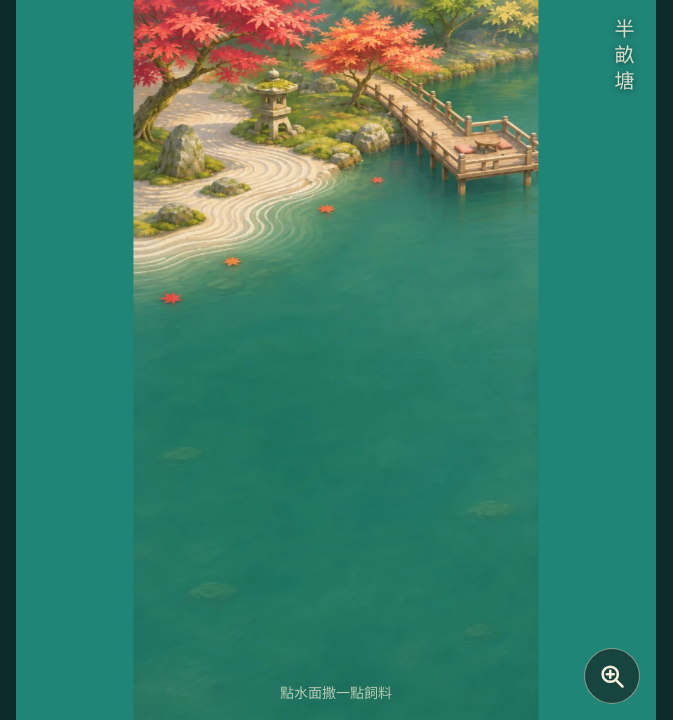
Pond › shows the title and a first-visit hint that goes away after feeding
expect the heading "半畝塘" is shown: met, box [612,18,634,96]
expect the text "點水面撒一點飼料" is shown: met, box [280,686,392,701]
Step 1. Press the mouse on the drawing named "池面，點一下撒飼料" → (336, 508), box [170,310,502,706]
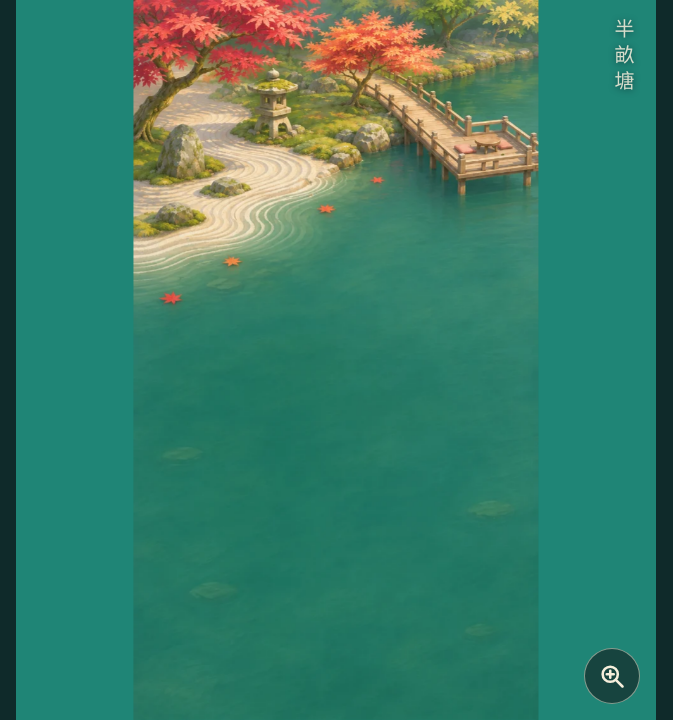
expect the text "點水面撒一點飼料" is gone: met
